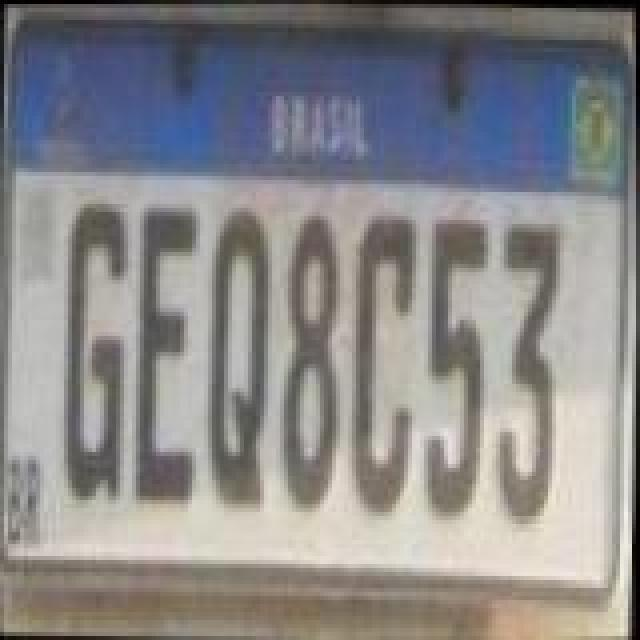3: (496, 216, 564, 520)
5: (420, 216, 488, 520)
8: (272, 210, 348, 514)
C: (344, 212, 420, 516)
E: (128, 202, 204, 506)
G: (56, 198, 132, 506)
Q: (200, 204, 276, 508)
